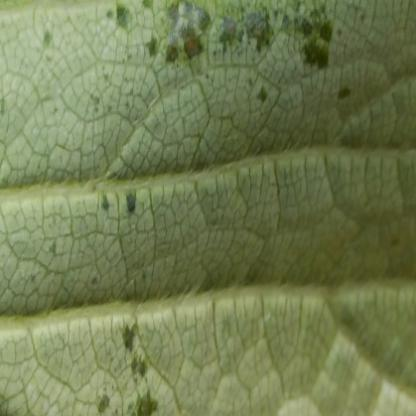Strawberry_Angular_LeafSpot: (26, 0, 376, 415)
